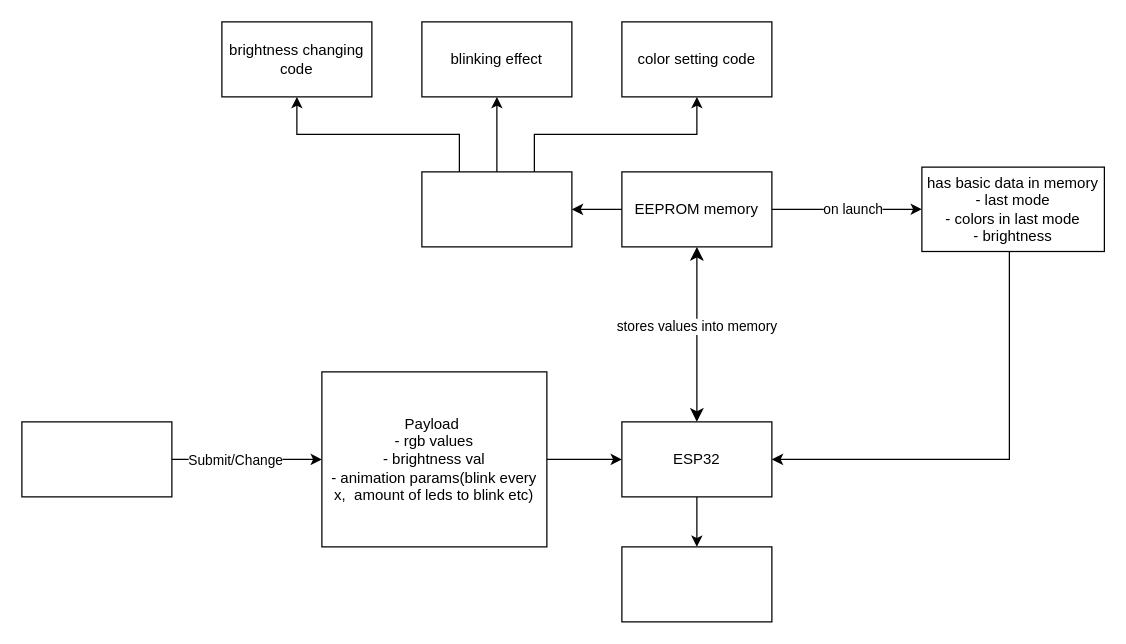
Some shapes in this 1126 by 644 pixel diagram are drawn without their labels. Here are the shapes that lost their labels. From the top down, the centre of each, then its label:
(x=496, y=209): contains basic functions
(x=96, y=459): Web UI
(x=696, y=584): LED strip (same one being used with set amound of leds/sections)
